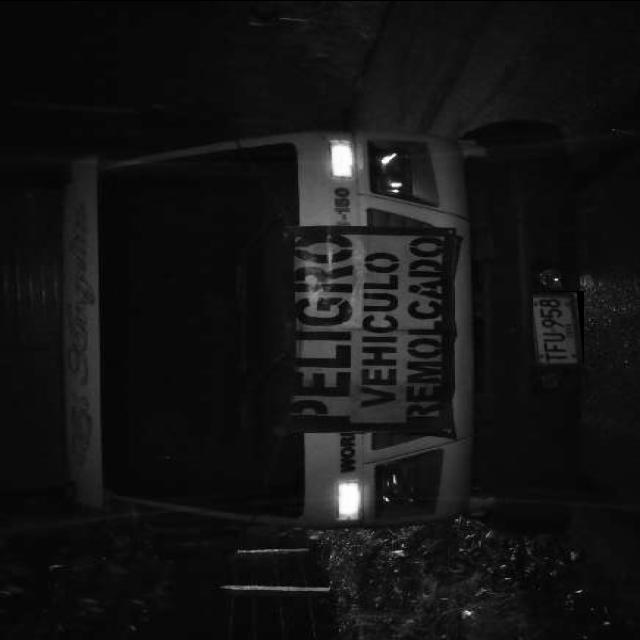plate: (533, 290, 584, 367)
